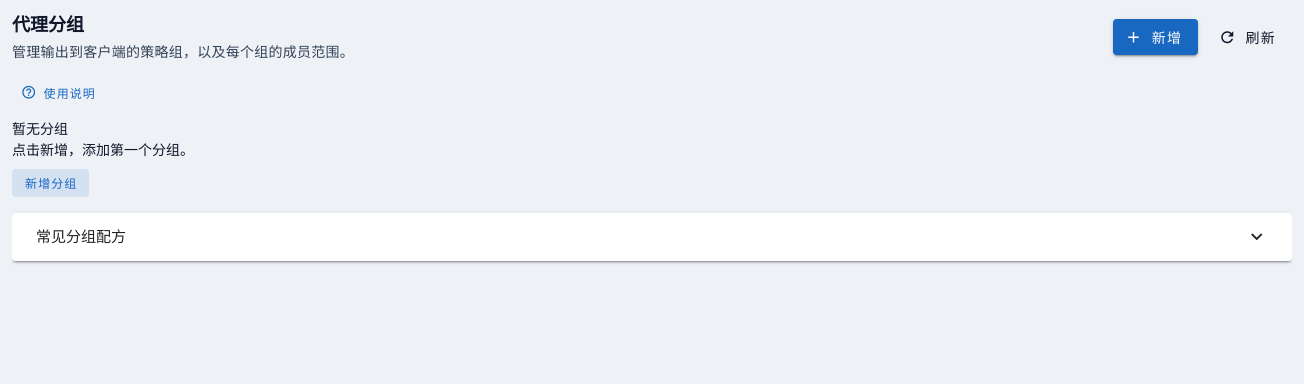
Scenario: GroupsPage › 展开常见分组配方折叠面板渲染配方列表
Click the button "常见分组配方": [81, 237] box [12, 213, 1292, 261]
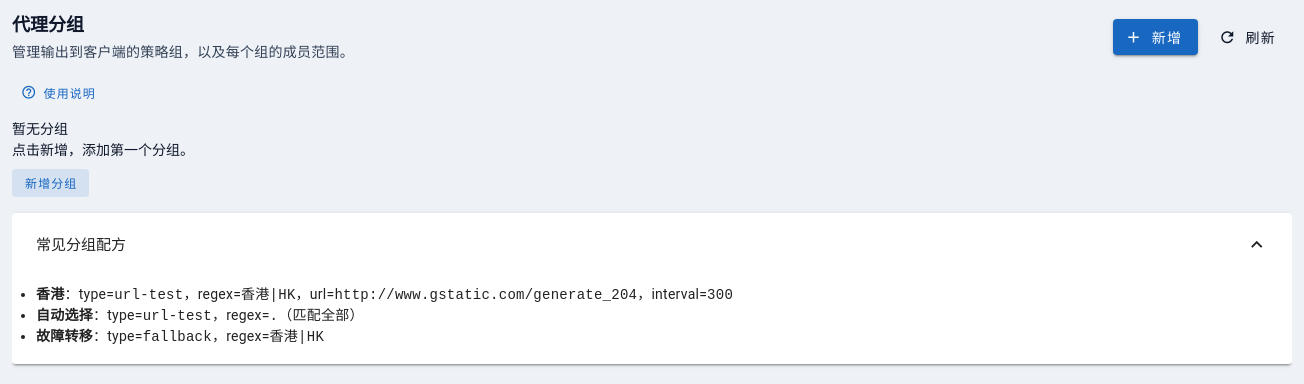
expect the text "常见分组配方" is shown: met, box [12, 213, 1292, 277]
expect the text "故障转移" is shown: met, box [36, 328, 93, 344]
